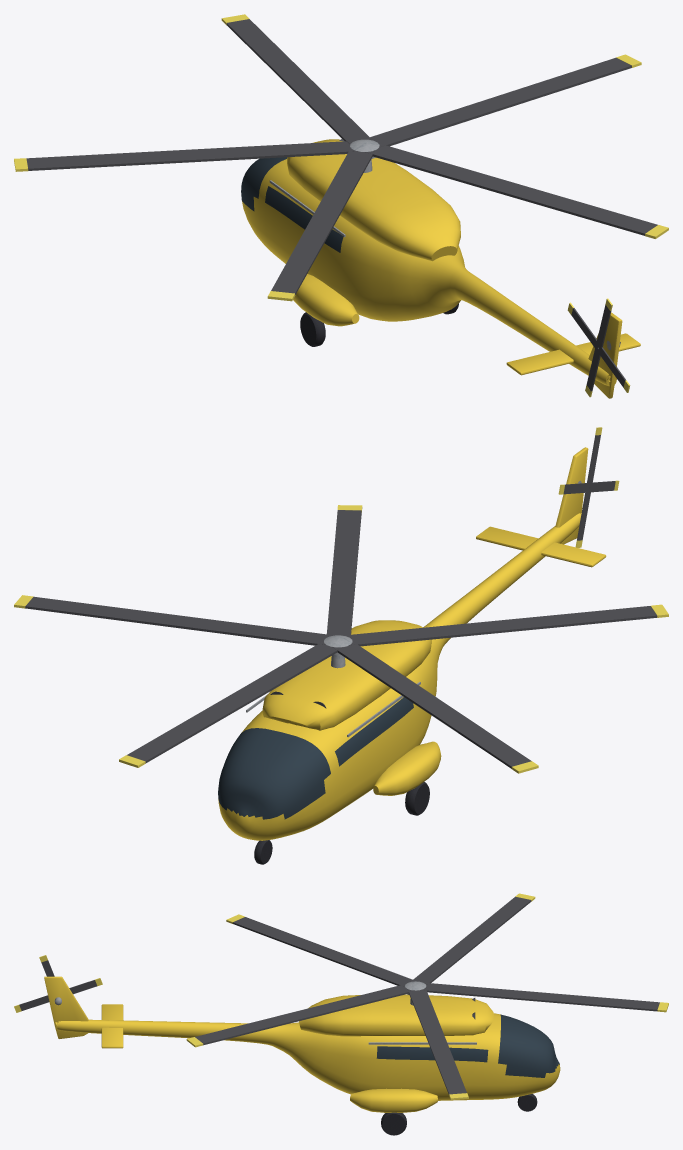
Rendered from heli_heavy_yellow.gltf.
The picture shows the model from 3 angles, top to bottom: view 1: azimuth 30°, elevation 25°; view 2: azimuth 150°, elevation 25°; view 3: azimuth 270°, elevation 25°; orthographic projection. The views are drawn at different scales.
Visible parts, largest first — view 1: heli_heavy_yellow; view 2: heli_heavy_yellow; view 3: heli_heavy_yellow.
Part boxes in pixels (box(x1,y1,x2,y2)): heli_heavy_yellow: box(14, 14, 668, 398); heli_heavy_yellow: box(14, 427, 668, 864); heli_heavy_yellow: box(14, 893, 668, 1135).
Size of the model in its own units: 13.44 by 4.63 by 18.15.
Materials: 8 (3 with a texture image).
